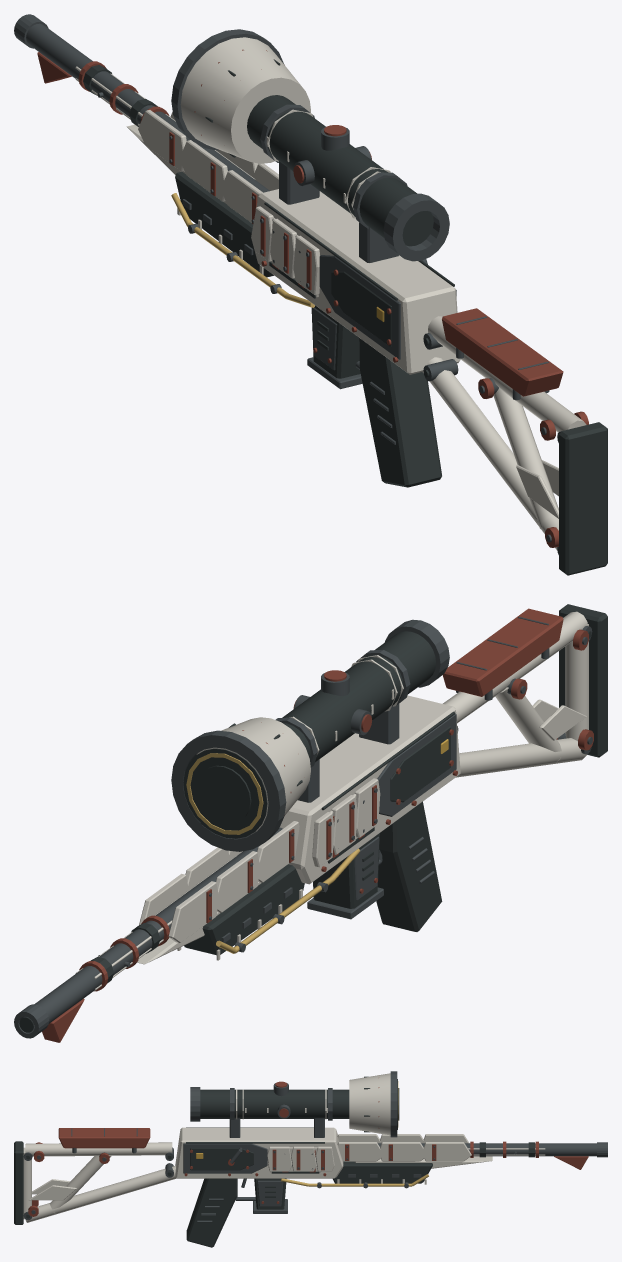
The model's file is sniper_4.glb.
3 renders of one model, top to bottom at view 1: azimuth 30°, elevation 25°; view 2: azimuth 150°, elevation 25°; view 3: azimuth 270°, elevation 25°, orthographic. The views are drawn at different scales.
Visible parts, largest first — view 1: Weapon_sniper_v1; view 2: Weapon_sniper_v1; view 3: Weapon_sniper_v1.
Boxes of the visible parts, bbox=[...] form: Weapon_sniper_v1: bbox=[14, 14, 607, 575]; Weapon_sniper_v1: bbox=[14, 604, 607, 1042]; Weapon_sniper_v1: bbox=[14, 1071, 607, 1247].
Size of the model in its own units: 0.122 by 0.3431 by 1.09.
